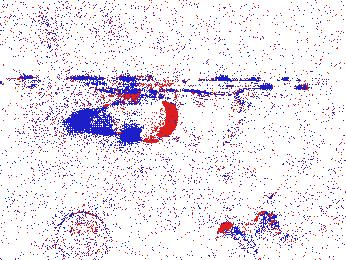flame jellyfish: (67, 87, 179, 144), (213, 209, 298, 260), (56, 211, 112, 260)
